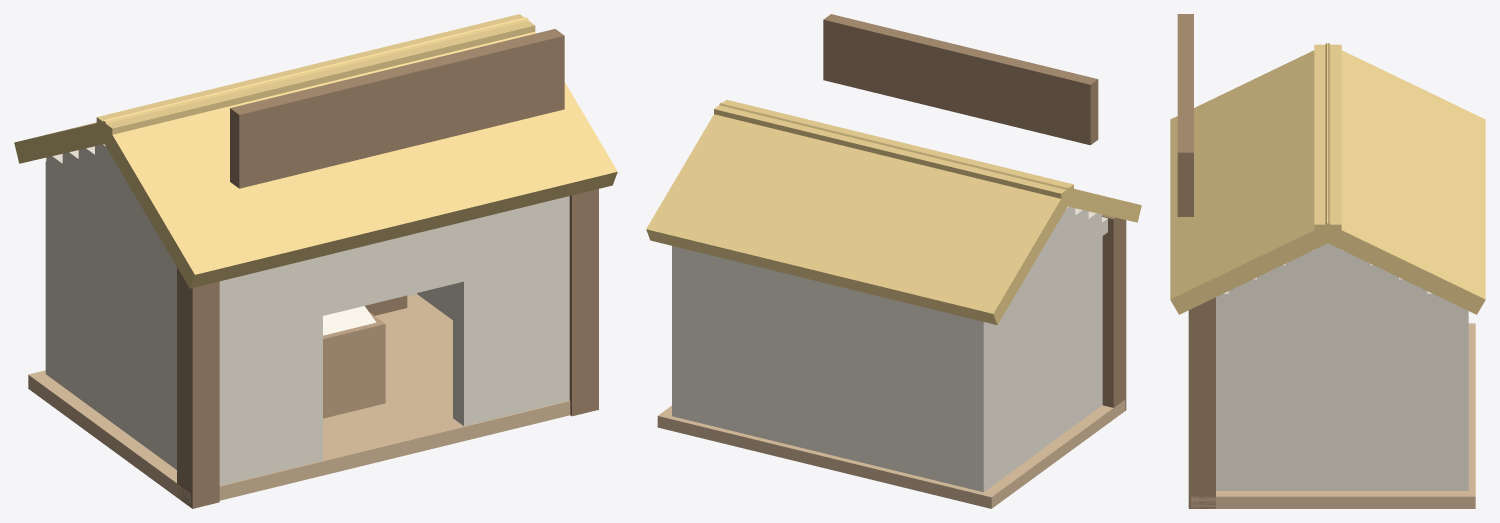
File: HamsterLibrary.glb
3 views of the same model, side by side, from view 1: azimuth 30°, elevation 25°; view 2: azimuth 150°, elevation 25°; view 3: azimuth 270°, elevation 25° (orthographic). The views are drawn at different scales.
Visible parts, largest first — view 1: HamsterLibrary_11, HamsterLibrary_6, HamsterLibrary_0, HamsterLibrary_5, HamsterLibrary_3, HamsterLibrary_12; view 2: HamsterLibrary_11, HamsterLibrary_6, HamsterLibrary_0, HamsterLibrary_5; view 3: HamsterLibrary_6, HamsterLibrary_11, HamsterLibrary_0, HamsterLibrary_5.
Part boxes in pixels (left/top/right/bottom): HamsterLibrary_11: left=45, top=144, right=569, bottom=485; HamsterLibrary_6: left=14, top=14, right=617, bottom=288; HamsterLibrary_0: left=177, top=29, right=598, bottom=508; HamsterLibrary_5: left=28, top=294, right=570, bottom=507; HamsterLibrary_3: left=323, top=312, right=385, bottom=418; HamsterLibrary_12: left=323, top=306, right=376, bottom=335; HamsterLibrary_11: left=672, top=206, right=1107, bottom=492; HamsterLibrary_6: left=646, top=100, right=1141, bottom=324; HamsterLibrary_0: left=823, top=14, right=1126, bottom=410; HamsterLibrary_5: left=657, top=400, right=1125, bottom=508; HamsterLibrary_6: left=1170, top=43, right=1485, bottom=314; HamsterLibrary_11: left=1216, top=243, right=1468, bottom=490; HamsterLibrary_0: left=1177, top=14, right=1215, bottom=508; HamsterLibrary_5: left=1191, top=323, right=1475, bottom=508.
Bounding box in the file's own units: 15.6 × 13.7 × 11.56.
